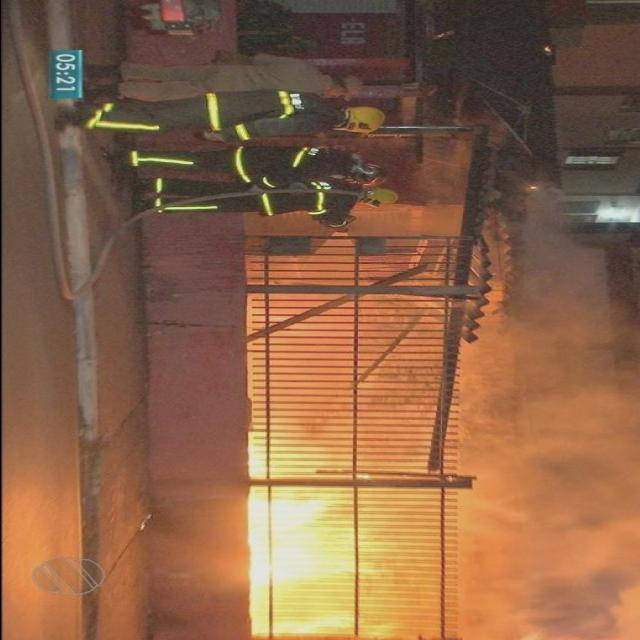Fire: (245, 442, 382, 636)
